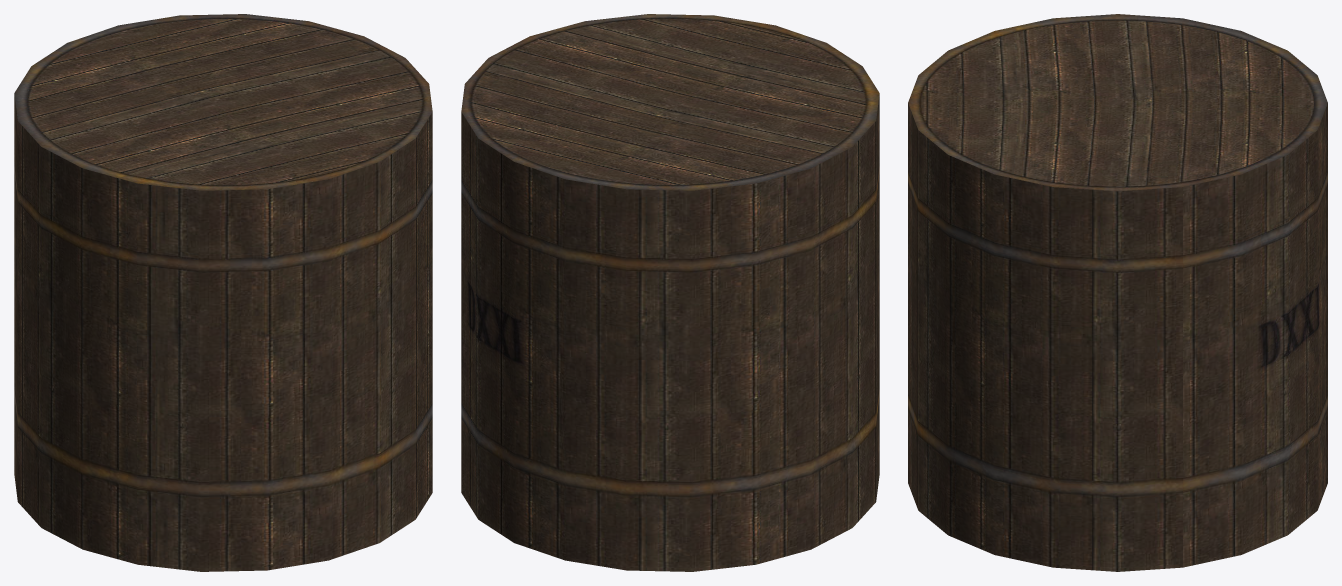
Rendered from barrel1.fbx.
The picture shows the model from 3 angles, left to right: view 1: azimuth 30°, elevation 25°; view 2: azimuth 150°, elevation 25°; view 3: azimuth 270°, elevation 25°; orthographic projection.
Parts seen in each view (by area): view 1: pCylinder1; view 2: pCylinder1; view 3: pCylinder1.
Boxes of the visible parts, box(x1,y1,x2,y2) form: pCylinder1: box(14, 14, 432, 571); pCylinder1: box(461, 14, 879, 571); pCylinder1: box(908, 14, 1327, 571).
Size of the model in its own units: 10 by 10 by 10.
Materials: 1 (1 with a texture image).
